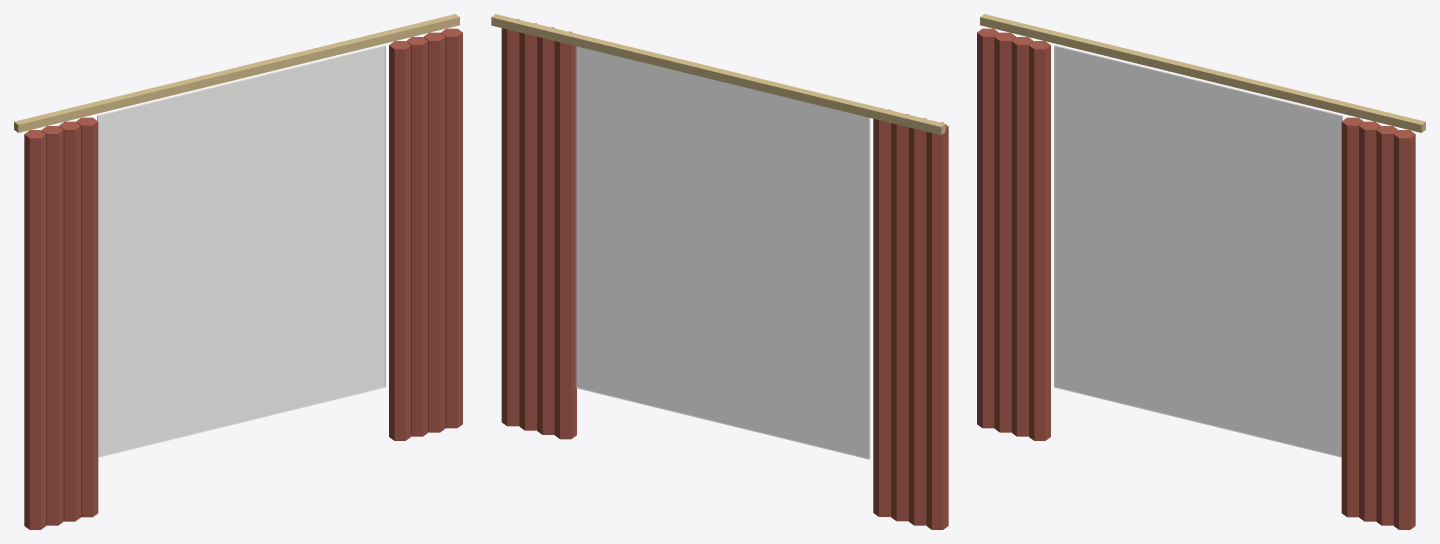
File: curtains.glb
3 renders of one model, left to right at view 1: azimuth 30°, elevation 25°; view 2: azimuth 150°, elevation 25°; view 3: azimuth 330°, elevation 25°, orthographic.
Visible parts, largest first — view 1: curtains; view 2: curtains; view 3: curtains.
Part boxes in pixels (<box>): curtains: <box>14,14,462,529</box>; curtains: <box>491,14,948,529</box>; curtains: <box>977,14,1425,529</box>.
Size of the model in its own units: 2.3 by 1.99 by 0.13.
